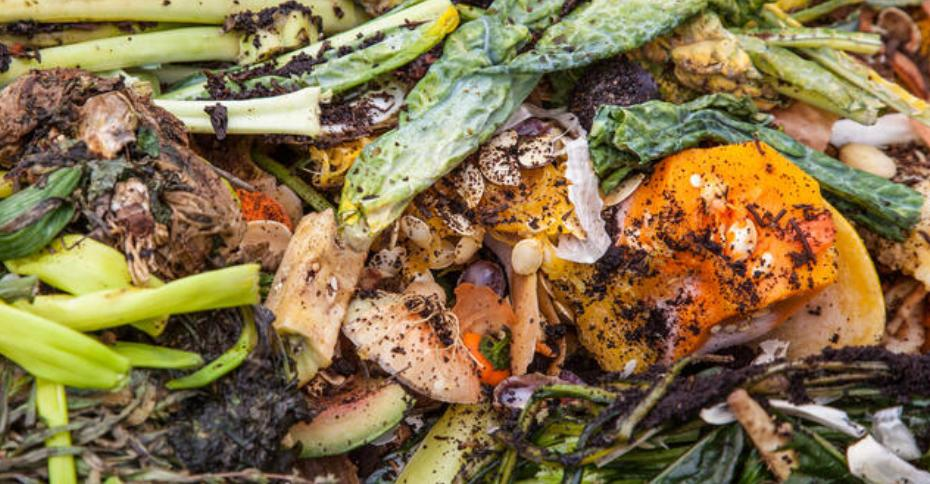organic: (570, 138, 890, 372), (330, 0, 563, 251), (161, 306, 313, 476), (269, 0, 464, 100), (161, 71, 412, 144), (756, 134, 923, 240), (264, 208, 362, 374), (557, 256, 690, 378), (591, 94, 771, 181), (509, 0, 717, 73), (473, 387, 624, 483), (739, 37, 899, 122), (650, 10, 778, 107), (470, 146, 589, 243), (722, 2, 906, 50), (0, 166, 86, 263), (164, 308, 257, 390), (627, 423, 743, 484), (225, 2, 324, 65), (354, 424, 429, 483), (204, 65, 318, 103), (517, 382, 616, 418), (475, 0, 578, 33), (79, 155, 139, 206), (695, 0, 783, 29), (463, 332, 510, 386), (787, 208, 837, 254), (239, 191, 289, 229), (0, 272, 40, 305), (136, 125, 161, 159)
